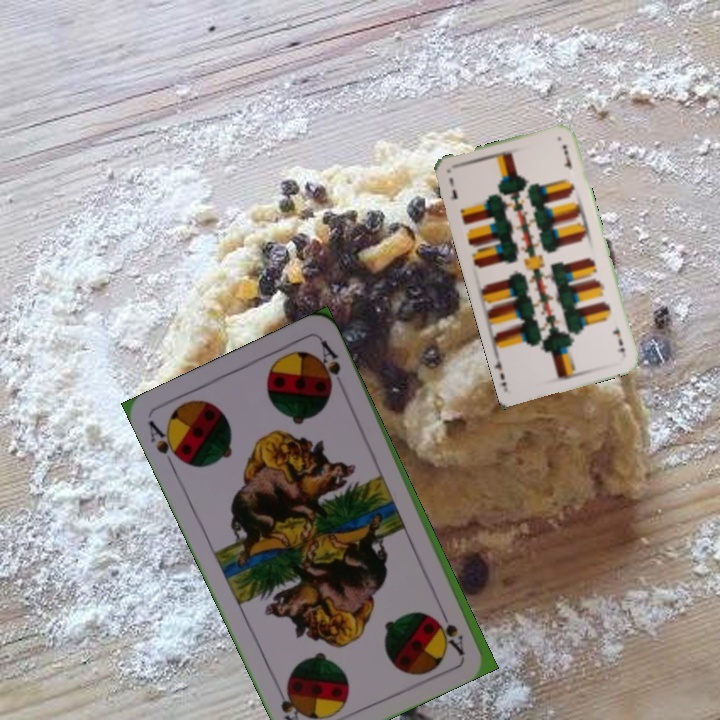E7: (608, 322, 627, 355), (445, 174, 460, 202)
SA: (144, 416, 187, 472), (434, 601, 467, 657)
